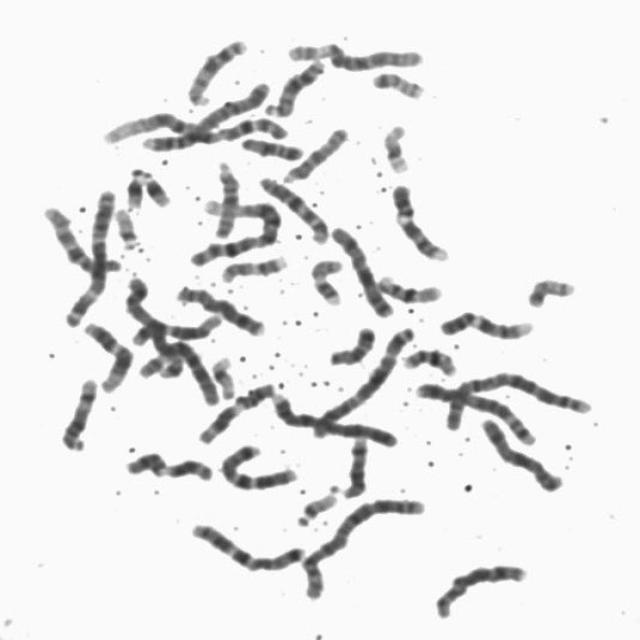A1: (93, 104, 293, 148), (183, 192, 284, 266)
A2: (294, 488, 430, 602), (436, 362, 596, 432)
A3: (307, 318, 419, 439), (56, 182, 118, 327)
B4: (134, 73, 273, 154), (263, 385, 402, 449)
B5: (408, 374, 540, 446), (117, 269, 186, 379)
C10: (36, 199, 123, 275), (252, 169, 332, 246)
C11: (190, 374, 279, 446), (117, 445, 216, 483)
C12: (76, 315, 134, 394), (124, 308, 225, 346)
C6: (132, 334, 224, 406), (280, 33, 428, 71)
C7: (183, 516, 309, 574), (213, 437, 302, 492)
C8: (428, 555, 532, 621), (168, 278, 269, 338)
C9: (383, 175, 453, 262), (432, 302, 538, 341)
D13: (180, 31, 251, 108), (259, 53, 328, 118)
D14: (52, 371, 100, 453), (333, 429, 371, 499)
D15: (276, 119, 351, 184), (206, 153, 242, 240)
E16: (370, 268, 446, 304), (395, 340, 460, 376)
E17: (214, 247, 290, 284), (304, 252, 346, 306)
E18: (322, 319, 378, 367), (234, 129, 306, 161)
F19: (376, 115, 413, 175), (204, 350, 238, 400)
F20: (364, 63, 428, 100), (521, 270, 579, 310)
G21: (132, 162, 174, 209), (120, 160, 150, 211)
G22: (289, 484, 340, 528), (108, 200, 144, 252)
X: (473, 410, 566, 494), (323, 218, 398, 320)
